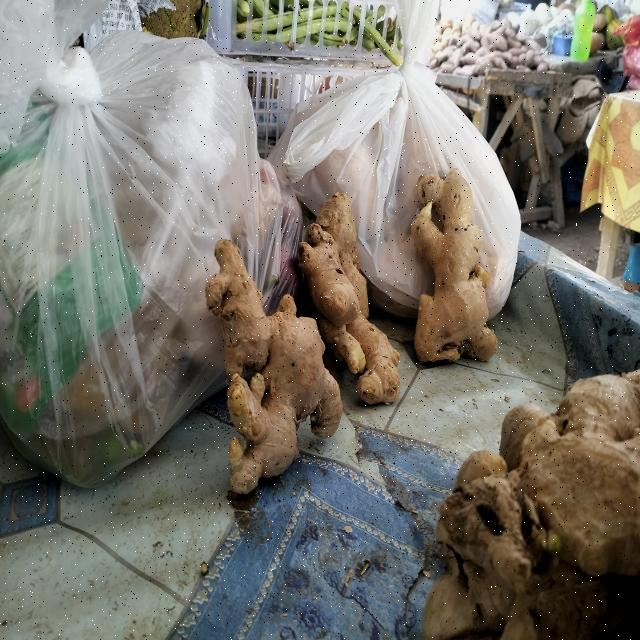ginger: (182, 247, 342, 483), (409, 165, 543, 361), (323, 192, 388, 406)
